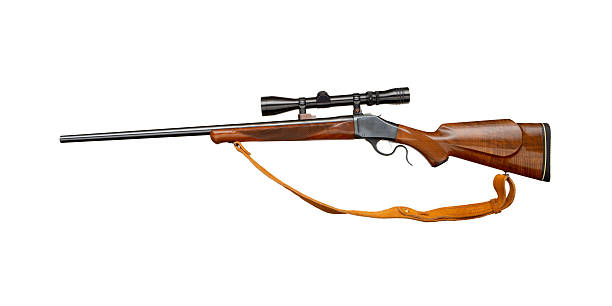rifle: (58, 83, 568, 205)
